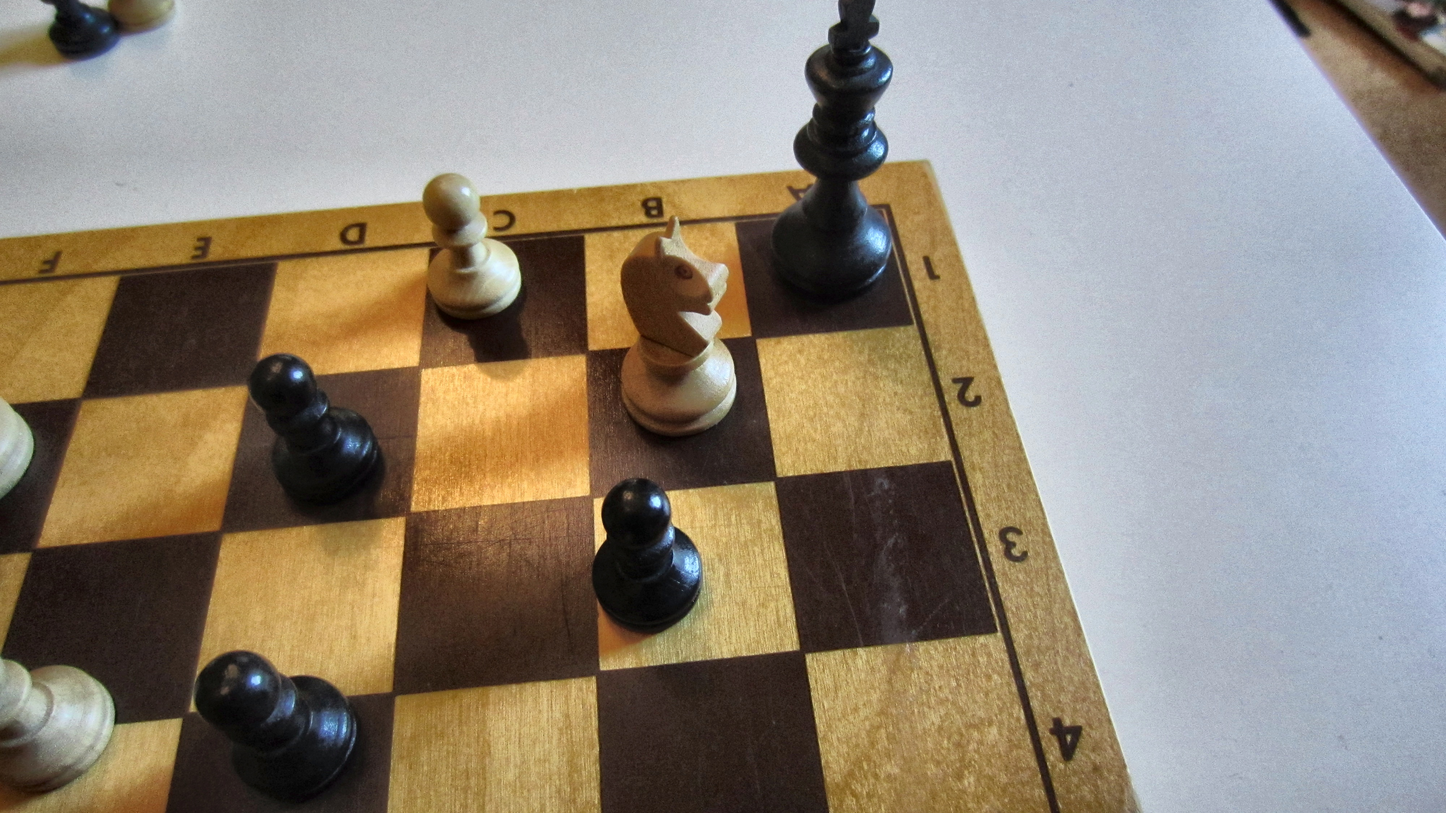black-king: (770, 0, 897, 299)
black-pawn: (191, 647, 362, 803), (244, 350, 384, 505), (590, 475, 705, 631)
white-knight: (615, 214, 739, 438)
white-pawn: (415, 172, 525, 324)
